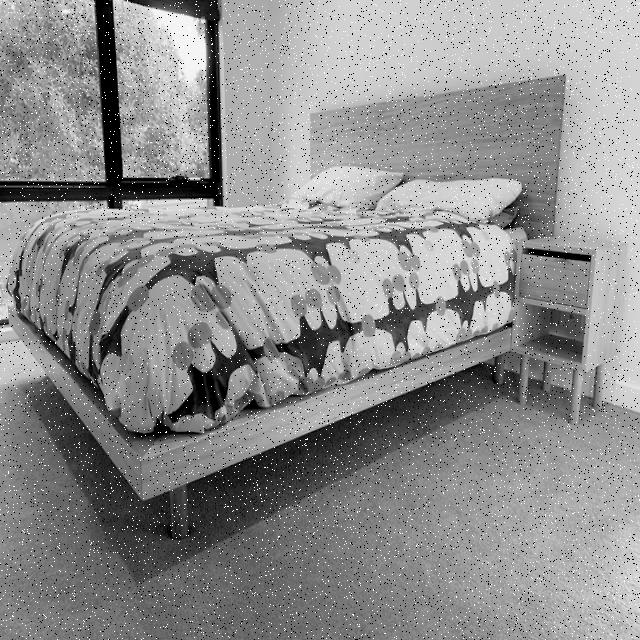bed: (1, 160, 525, 445)
